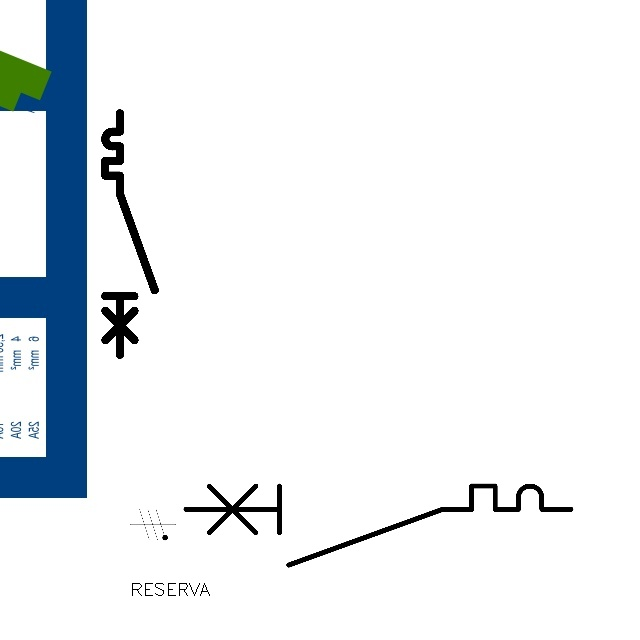interruptor_termomagnetico: (175, 476, 580, 575), (99, 107, 161, 361)
